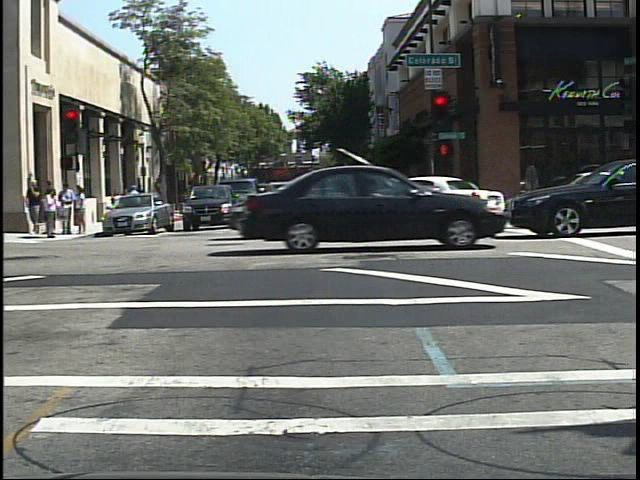person: (124, 181, 143, 220), (136, 181, 152, 219)
